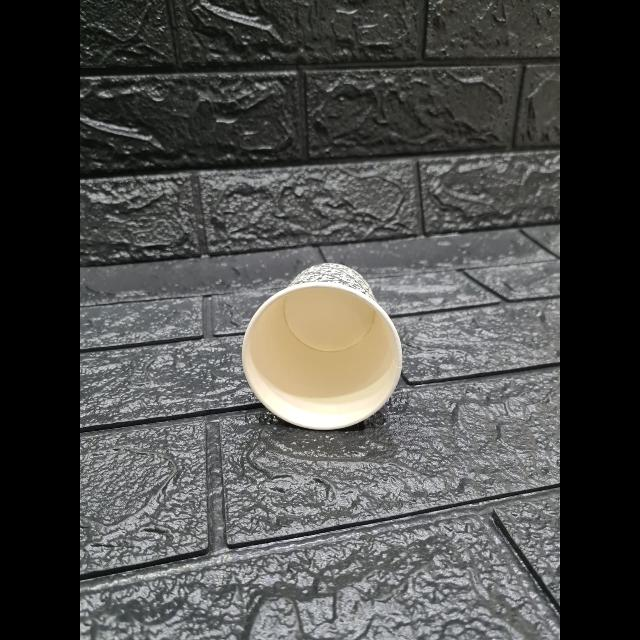trash: (240, 258, 402, 427)
